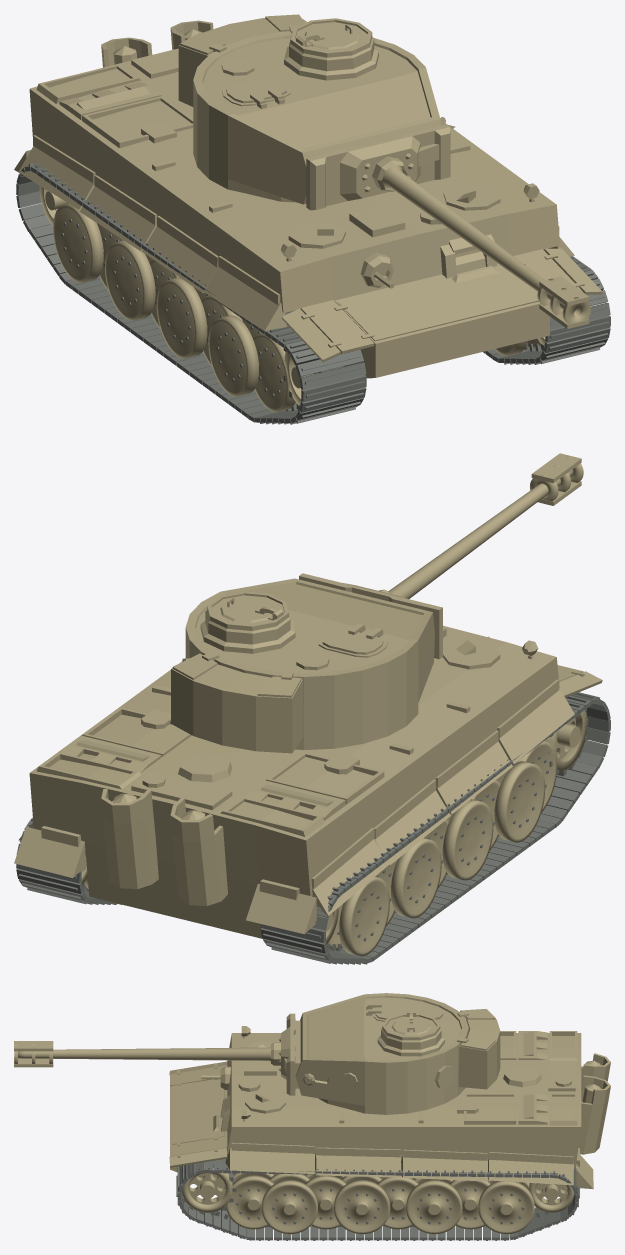
The model's file is tiger_i.glb.
3 views of the same model, one above another, from view 1: azimuth 30°, elevation 25°; view 2: azimuth 150°, elevation 25°; view 3: azimuth 270°, elevation 25° (orthographic). The views are drawn at different scales.
Visible parts, largest first — view 1: HullGeometry, TurretGeometry, TrackLeft, OriginalGunMantlet, TrackRight, GunBarrel, Wheel_-1_1_1, Wheel_-1_3_1, Wheel_-1_5_1, Wheel_-1_7_1, Wheel_-1_0_1, BrakeRoof.001 (+3 smaller); view 2: HullGeometry, TurretGeometry, TrackLeft, Wheel_-1_1_1, Wheel_-1_3_1, Wheel_-1_5_1, GunBarrel, Wheel_-1_7_1, TrackRight, OriginalGunMantlet, Wheel_Drive_-1, Wheel_-1_0_1 (+1 smaller); view 3: HullGeometry, TurretGeometry, TrackRight, GunBarrel, Wheel_1_5_1, Wheel_1_3_1, Wheel_1_1_1, Wheel_1_7_1, Wheel_1_0_1, Wheel_Drive_1, OriginalGunMantlet, Wheel_1_2_1 (+4 smaller).
Part boxes in pixels (<box>): HullGeometry: <box>14,19,602,378</box>; TurretGeometry: <box>178,14,455,204</box>; TrackLeft: <box>16,163,366,424</box>; OriginalGunMantlet: <box>306,124,450,210</box>; TrackRight: <box>483,256,610,364</box>; GunBarrel: <box>382,164,580,316</box>; Wheel_-1_1_1: <box>208,315,258,396</box>; Wheel_-1_3_1: <box>156,277,207,358</box>; Wheel_-1_5_1: <box>105,240,155,320</box>; Wheel_-1_7_1: <box>53,203,103,282</box>; Wheel_-1_0_1: <box>253,333,295,411</box>; BrakeRoof.001: <box>539,276,589,306</box>; HullGeometry: <box>14,625,602,938</box>; TurretGeometry: <box>171,578,434,753</box>; TrackLeft: <box>260,692,610,964</box>; Wheel_-1_1_1: <box>494,761,545,842</box>; Wheel_-1_3_1: <box>442,799,493,880</box>; Wheel_-1_5_1: <box>391,838,441,918</box>; GunBarrel: <box>388,469,573,598</box>; Wheel_-1_7_1: <box>339,877,389,956</box>; TrackRight: <box>16,817,121,904</box>; OriginalGunMantlet: <box>299,573,442,659</box>; Wheel_Drive_-1: <box>544,708,588,776</box>; Wheel_-1_0_1: <box>512,741,556,812</box>; HullGeometry: <box>169,1026,610,1190</box>; TurretGeometry: <box>295,993,500,1114</box>; TrackRight: <box>176,1150,579,1240</box>; GunBarrel: <box>18,1047,270,1061</box>; Wheel_1_5_1: <box>406,1180,462,1234</box>; Wheel_1_3_1: <box>334,1180,390,1234</box>; Wheel_1_1_1: <box>262,1180,317,1234</box>; Wheel_1_7_1: <box>478,1181,534,1234</box>; Wheel_1_0_1: <box>226,1175,274,1229</box>; Wheel_Drive_1: <box>181,1161,236,1215</box>; OriginalGunMantlet: <box>271,1013,300,1095</box>; Wheel_1_2_1: <box>305,1175,346,1229</box>.
Size of the model in its own units: 3.56 by 2.86 by 8.5.
